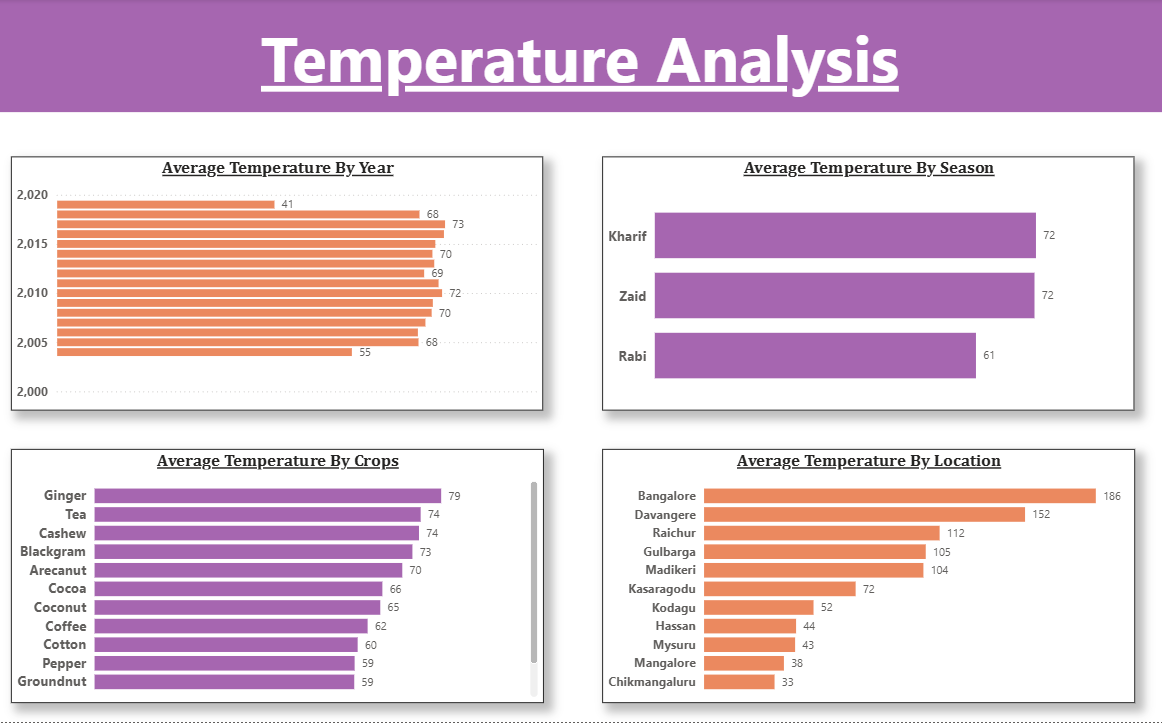

The page's visual inventory and layout, read from the dashboard file:
{"tool":"powerbi","page":{"name":"Temperature Analysis","canvas":[1280,793],"ordinal":1},"visuals":[{"type":"clusteredBarChart","title":"Average Temperature By Year","fields":{"Category":["AGRICULTURE.YEAR"],"Y":["Avg(AGRICULTURE.TEMPERATURE)"]},"box":[16.2,172.9,583.4,278.6],"z":0},{"type":"shape","box":[0,0,1280,124.4],"z":1000},{"type":"clusteredBarChart","title":"Average Temperature By Season","fields":{"Category":["AGRICULTURE.SEASON"],"Y":["Avg(AGRICULTURE.TEMPERATURE)"]},"box":[664.3,172.9,583.4,278.6],"z":2000},{"type":"clusteredBarChart","title":"Average Temperature By Crops","fields":{"Category":["AGRICULTURE.CROPS"],"Y":["Avg(AGRICULTURE.TEMPERATURE)"]},"box":[16.4,493.2,583.7,278.1],"z":3000},{"type":"clusteredBarChart","title":"Average Temperature By Location","fields":{"Category":["AGRICULTURE.LOCATION"],"Y":["Avg(AGRICULTURE.TEMPERATURE)"]},"box":[664.5,493.2,583.7,278.1],"z":4000}]}

Visuals, with their boxes in screenshot pixels (x1, y1, x2, y2), scaled from the page's 1280x793 canvas onto the 1162x723 screenshot:
"Average Temperature By Year" clusteredBarChart: left=15, top=158, right=544, bottom=412
shape: left=0, top=0, right=1161, bottom=113
"Average Temperature By Season" clusteredBarChart: left=603, top=158, right=1133, bottom=412
"Average Temperature By Crops" clusteredBarChart: left=15, top=450, right=545, bottom=703
"Average Temperature By Location" clusteredBarChart: left=603, top=450, right=1133, bottom=703
